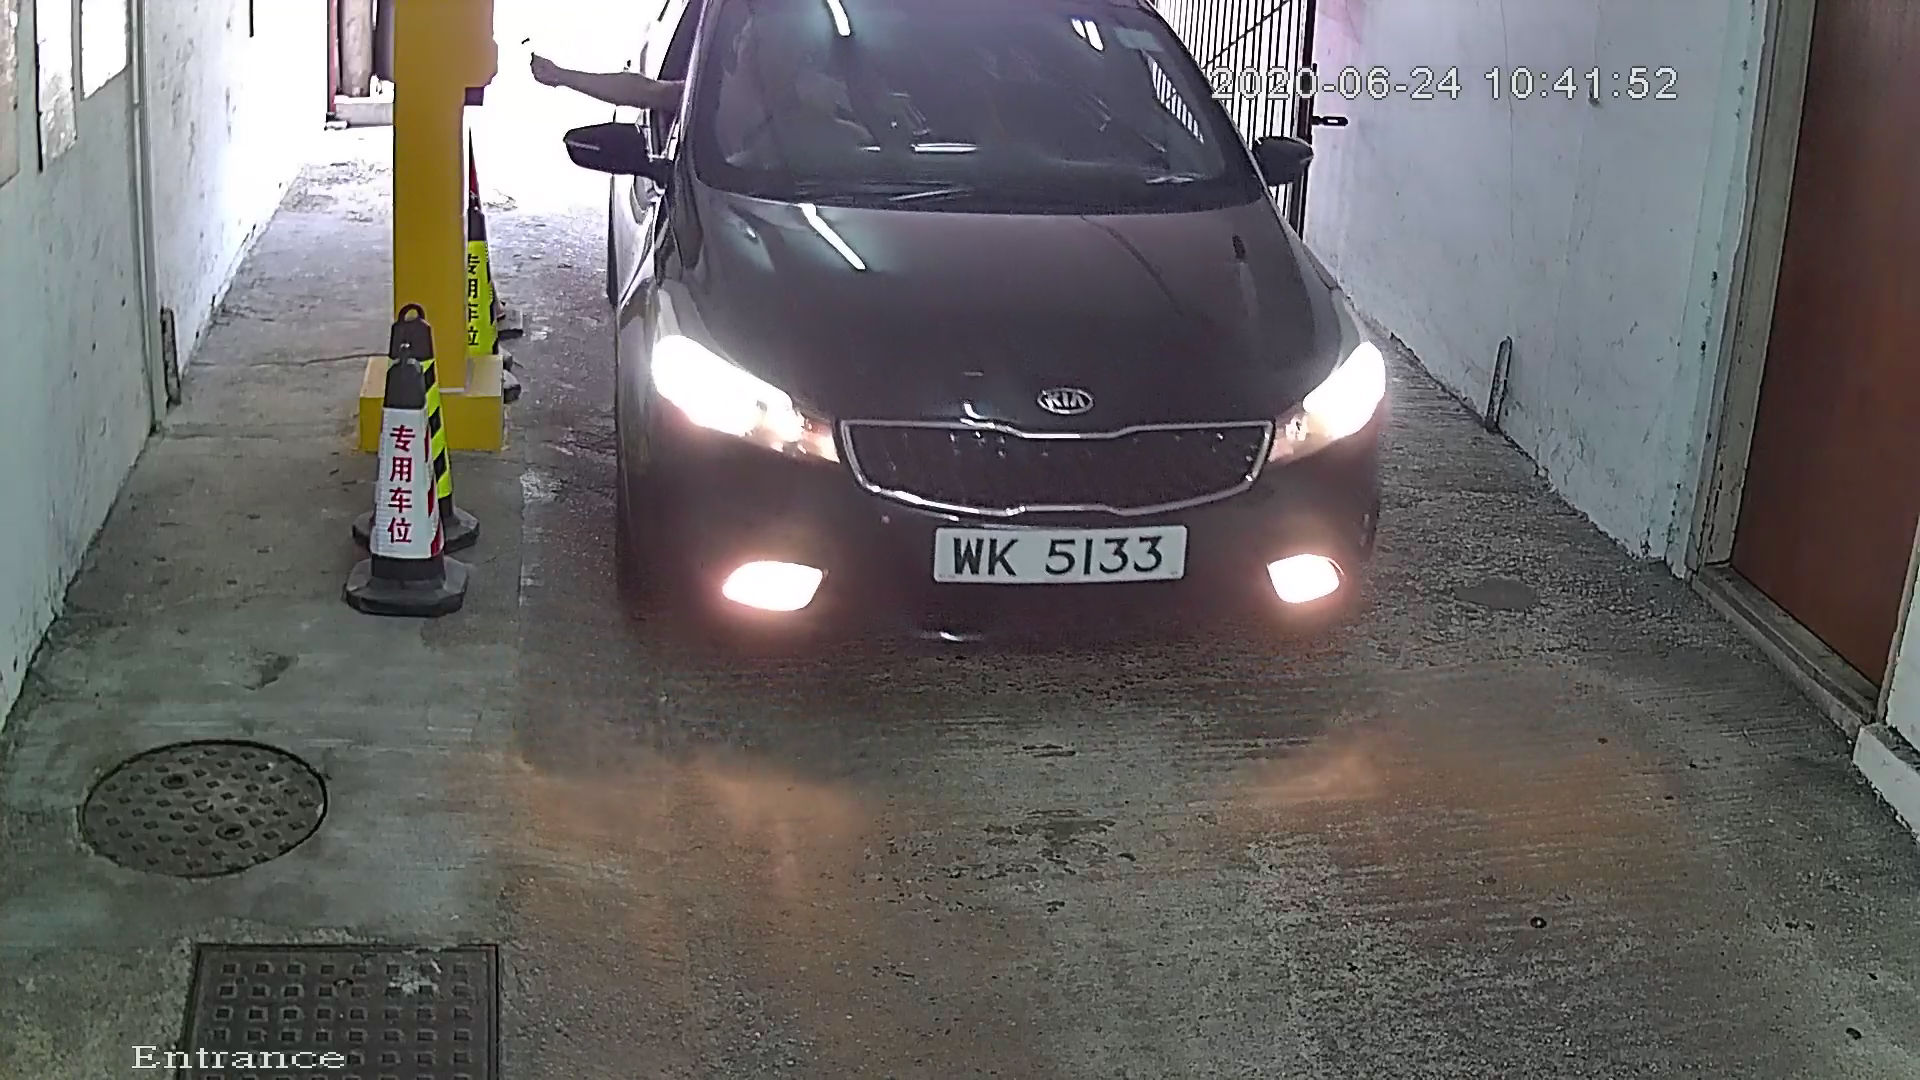Car: (580, 1, 1411, 726)
License Plate: (925, 514, 1205, 617)
